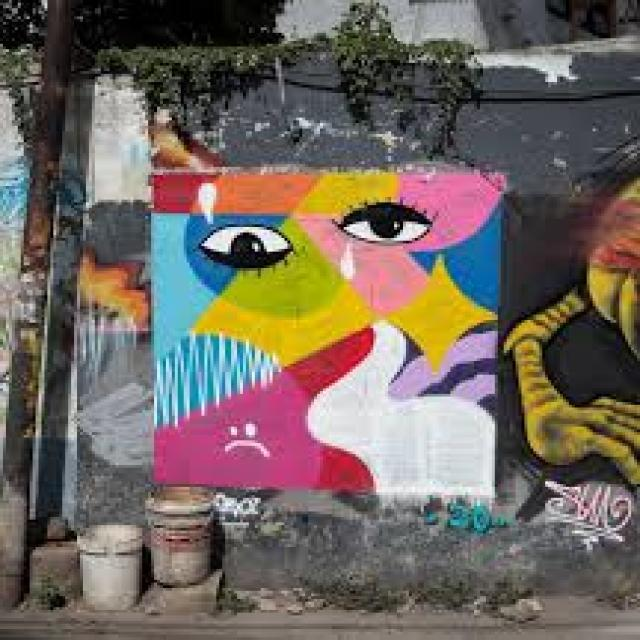-: (146, 167, 496, 497), (506, 140, 640, 487), (66, 245, 152, 338), (539, 478, 640, 548), (424, 491, 514, 533)
